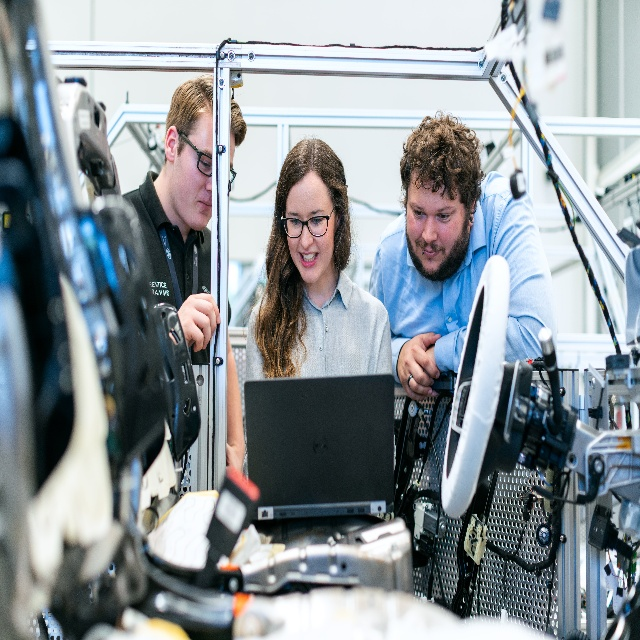Gafas: (177, 129, 236, 184), (280, 204, 338, 239)
Sin_guantes: (168, 292, 221, 353), (397, 330, 441, 401), (226, 443, 246, 474), (422, 344, 439, 378)
